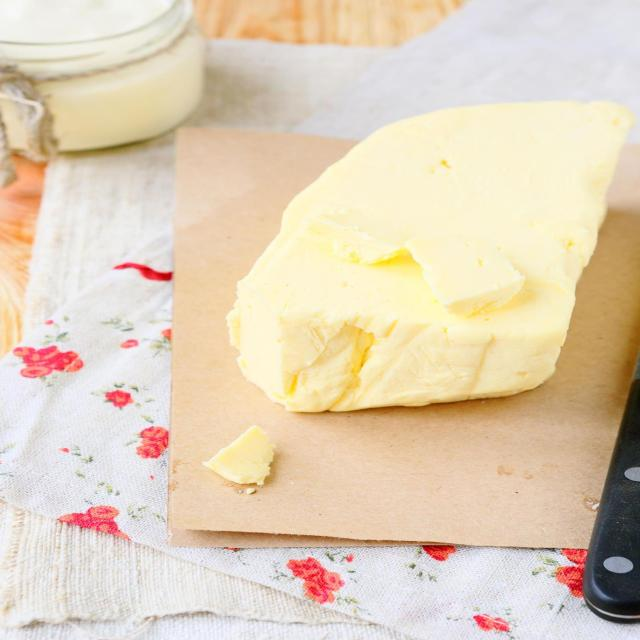Butter: (219, 99, 634, 411)
